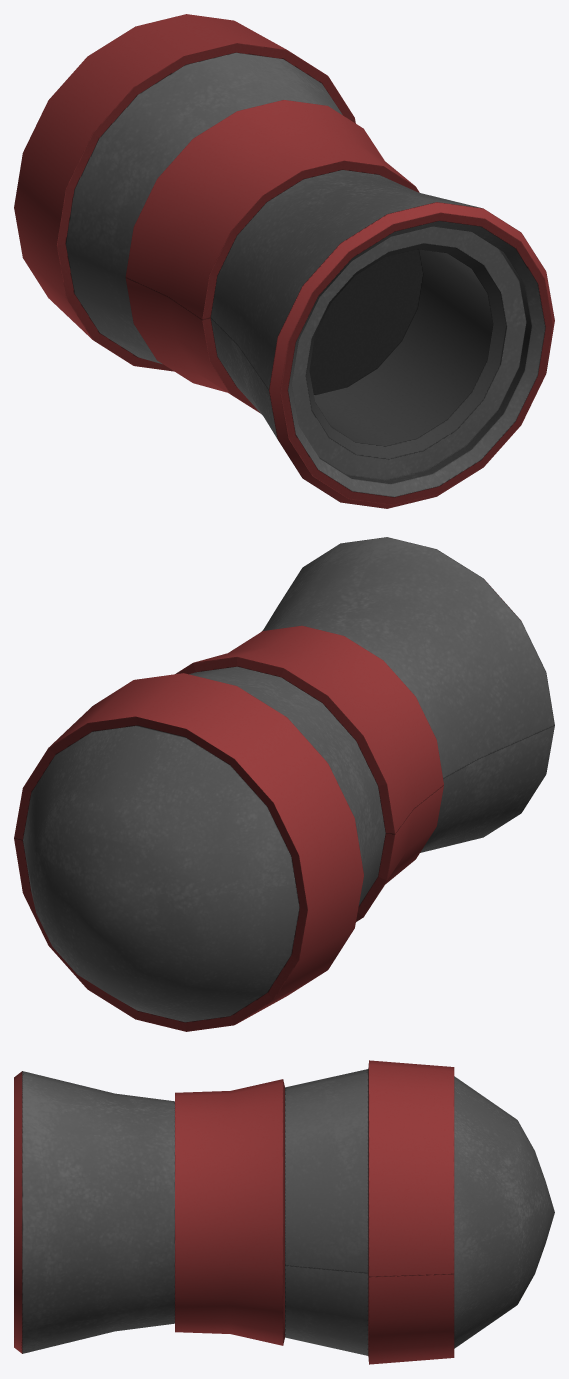
Rendered from FINAL_ANIMATED_AOE_CANNON.FBX.
The picture shows the model from 3 angles, top to bottom: view 1: azimuth 30°, elevation 25°; view 2: azimuth 150°, elevation 25°; view 3: azimuth 270°, elevation 25°; orthographic projection. The views are drawn at different scales.
Visible parts, largest first — view 1: AOE Cannon; view 2: AOE Cannon; view 3: AOE Cannon.
Boxes of the visible parts, x1,y1,x2,y2 form: AOE Cannon: (14,14,554,508); AOE Cannon: (14,537,554,1031); AOE Cannon: (14,1060,554,1364).
Bounding box in the file's own units: 35.51 × 62.92 × 34.97.
1 material, 1 textured.
